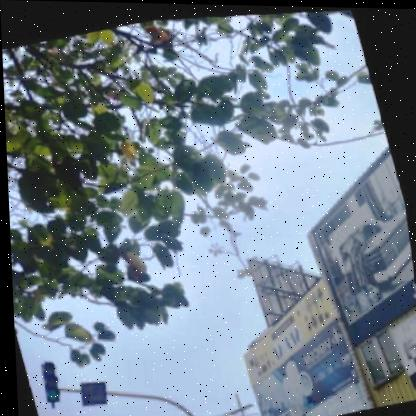Traffic Light -Green-: (36, 356, 63, 399)
